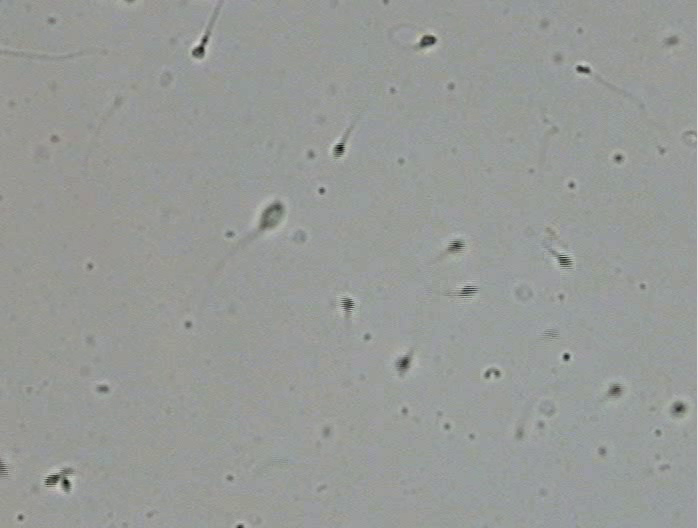S: (259, 202, 285, 230), (556, 253, 573, 269), (459, 285, 479, 298), (340, 296, 355, 313), (448, 239, 466, 253), (396, 356, 410, 373), (419, 35, 437, 48), (44, 473, 60, 487), (332, 142, 345, 159), (59, 478, 72, 493), (192, 45, 205, 59), (672, 403, 686, 415), (1, 461, 9, 479), (609, 384, 622, 395), (576, 65, 590, 74)
